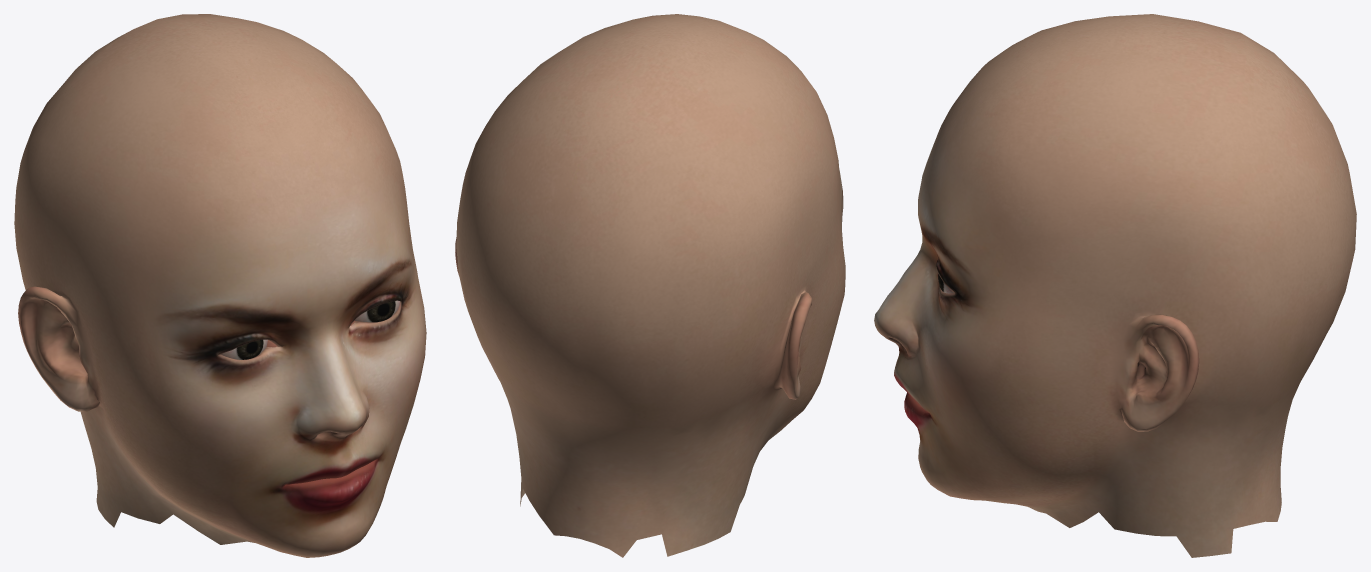
Rendered from female-28.obj.
3 views of the same model, side by side, from view 1: azimuth 30°, elevation 25°; view 2: azimuth 150°, elevation 25°; view 3: azimuth 270°, elevation 25° (orthographic). The views are drawn at different scales.
Visible parts, largest first — view 1: CC_Base_Body.003; view 2: CC_Base_Body.003; view 3: CC_Base_Body.003.
Boxes of the visible parts, x1,y1,x2,y2 form: CC_Base_Body.003: [14, 14, 426, 557]; CC_Base_Body.003: [455, 14, 845, 557]; CC_Base_Body.003: [874, 14, 1356, 557].
Size of the model in its own units: 175 by 227 by 206.
Materials: 1 (1 with a texture image).
